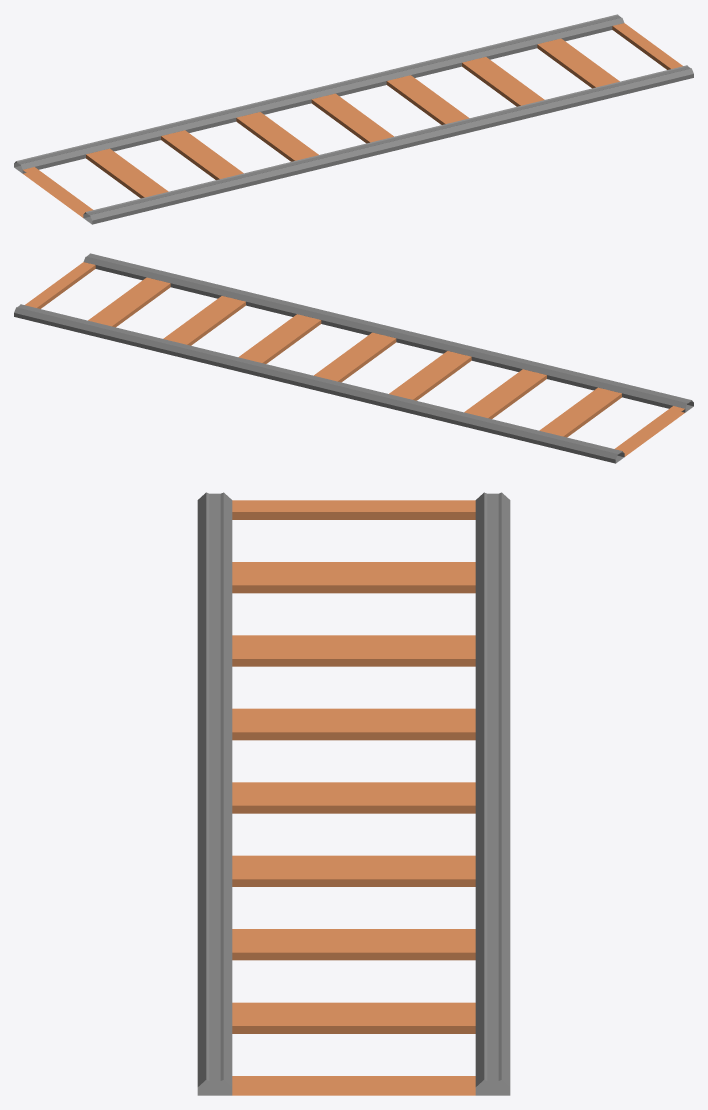
File: railroad.fbx
The picture shows the model from 3 angles, top to bottom: view 1: azimuth 30°, elevation 25°; view 2: azimuth 150°, elevation 25°; view 3: azimuth 270°, elevation 25°; orthographic projection. The views are drawn at different scales.
Parts seen in each view (by area): view 1: Plane; view 2: Plane; view 3: Plane.
Part boxes in pixels (x1,y1,x2,y2): Plane: (14, 14, 693, 224); Plane: (14, 253, 693, 463); Plane: (197, 492, 510, 1095).
Size of the model in its own units: 800 by 10 by 180.
